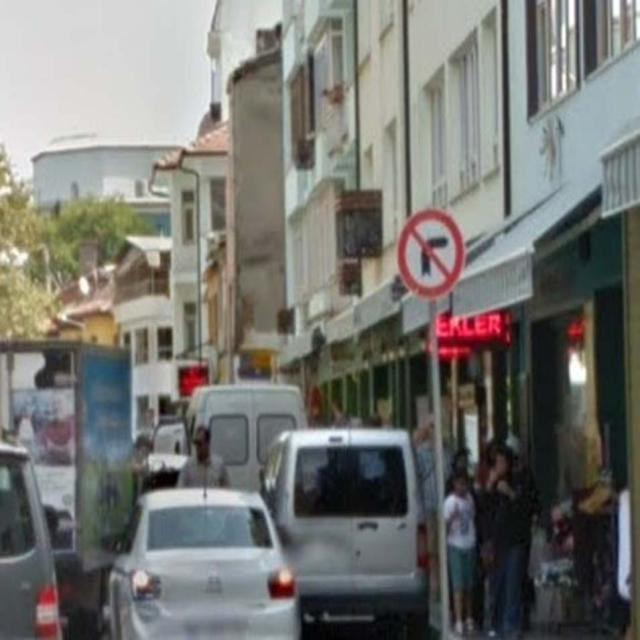sagadonulmez: (398, 209, 463, 299)
